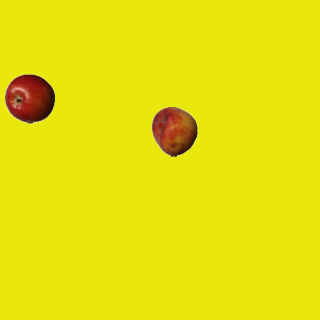Apple Braeburn: (4, 73, 54, 123)
Peach: (149, 106, 199, 156)
